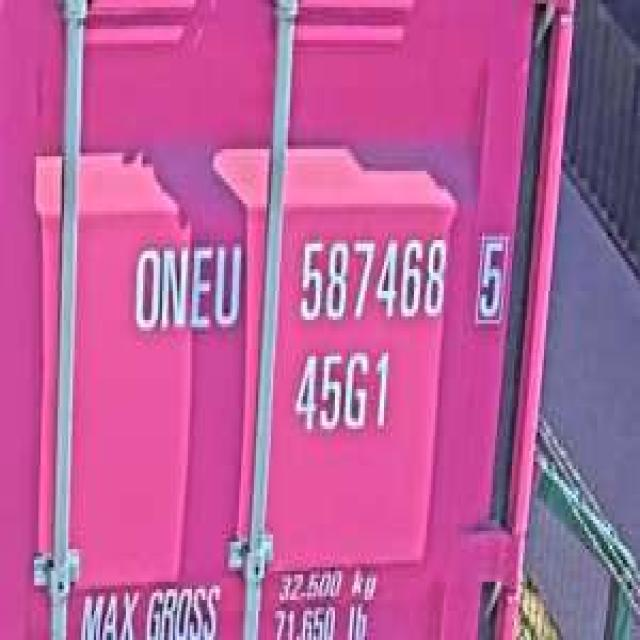dv: (471, 225, 510, 328)
owner: (126, 233, 245, 338)
serial: (294, 225, 448, 328)
size: (290, 342, 395, 440)
